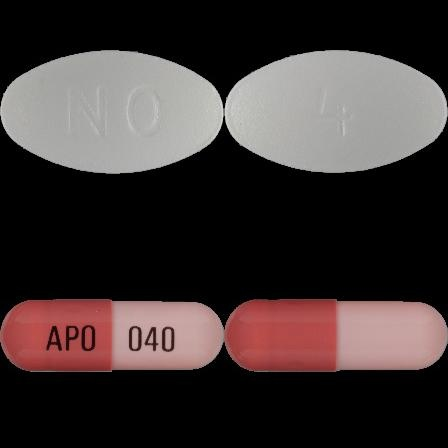50436-0132: (0, 0, 224, 224)
